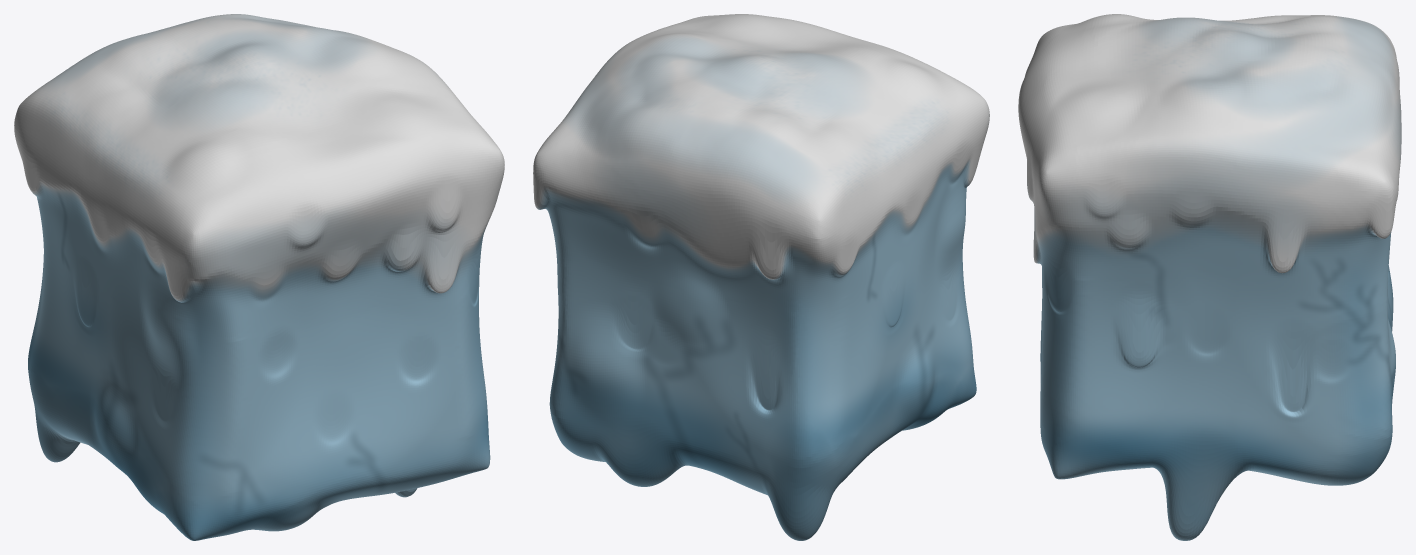
Rendered from Icecube.fbx.
3 renders of one model, left to right at view 1: azimuth 30°, elevation 25°; view 2: azimuth 150°, elevation 25°; view 3: azimuth 270°, elevation 25°, orthographic. The views are drawn at different scales.
Parts seen in each view (by area): view 1: yourMesh; view 2: yourMesh; view 3: yourMesh.
Part boxes in pixels (box(x1,y1,x2,y2)): yourMesh: box(14, 14, 504, 540); yourMesh: box(533, 14, 989, 540); yourMesh: box(1018, 14, 1401, 540).
Bounding box in the file's own units: 4244 × 5589 × 4384.
